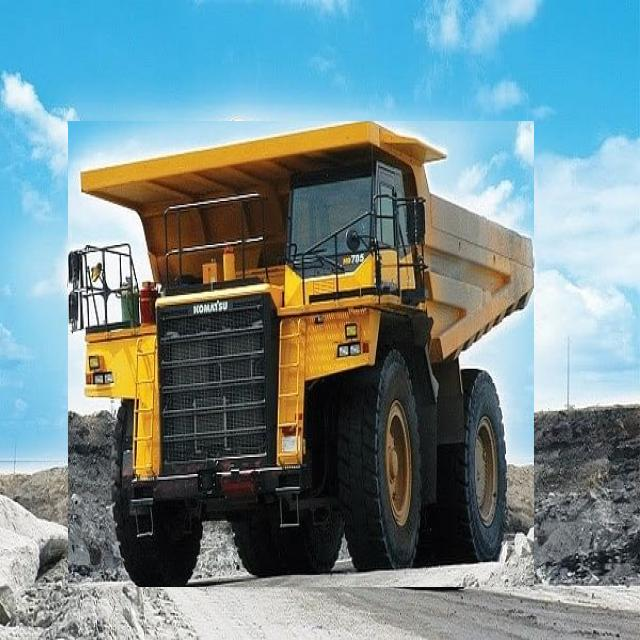truck: (68, 121, 534, 587)
